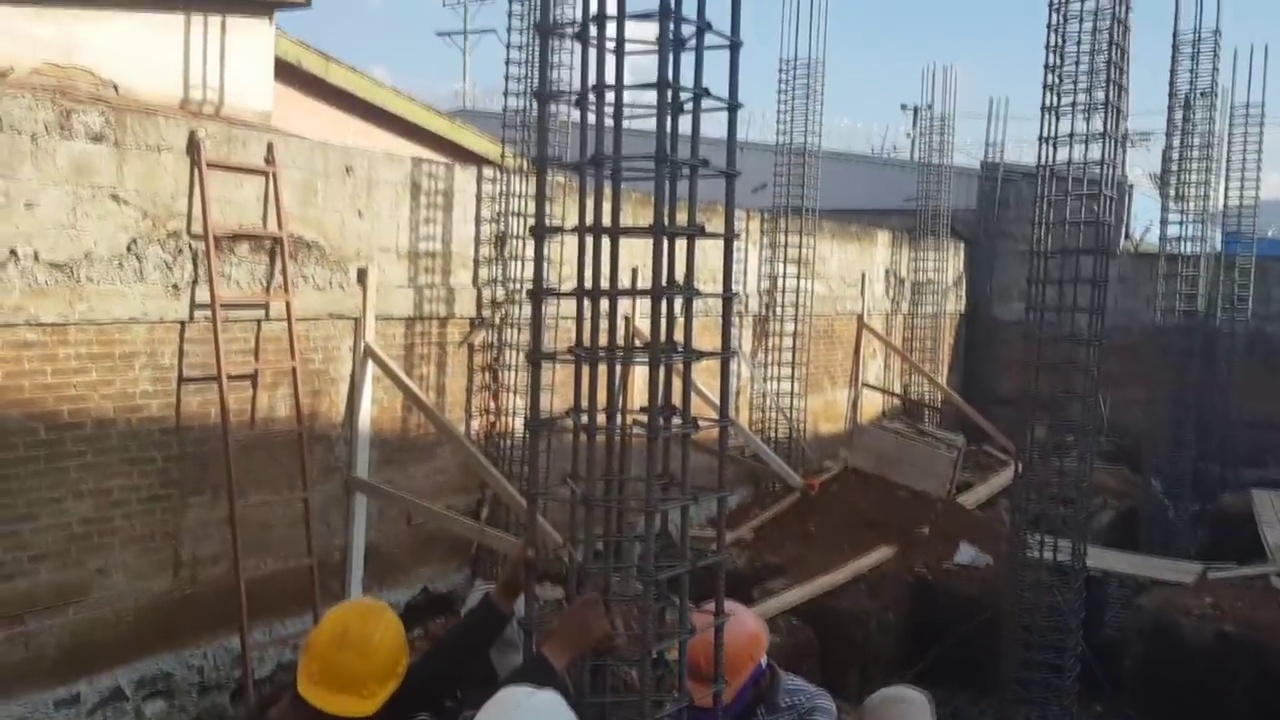helmet: (300, 606, 404, 700), (680, 608, 768, 708)
helmet-off: (458, 582, 538, 672)
helmet-on: (274, 596, 411, 712), (674, 599, 782, 712)
